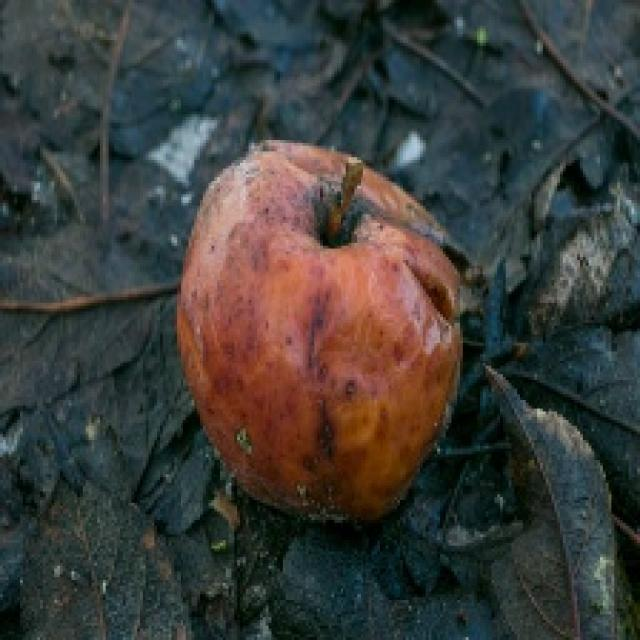rotten_apple: (182, 143, 456, 524)
